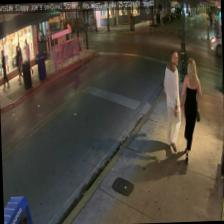person: (178, 57, 204, 161)
